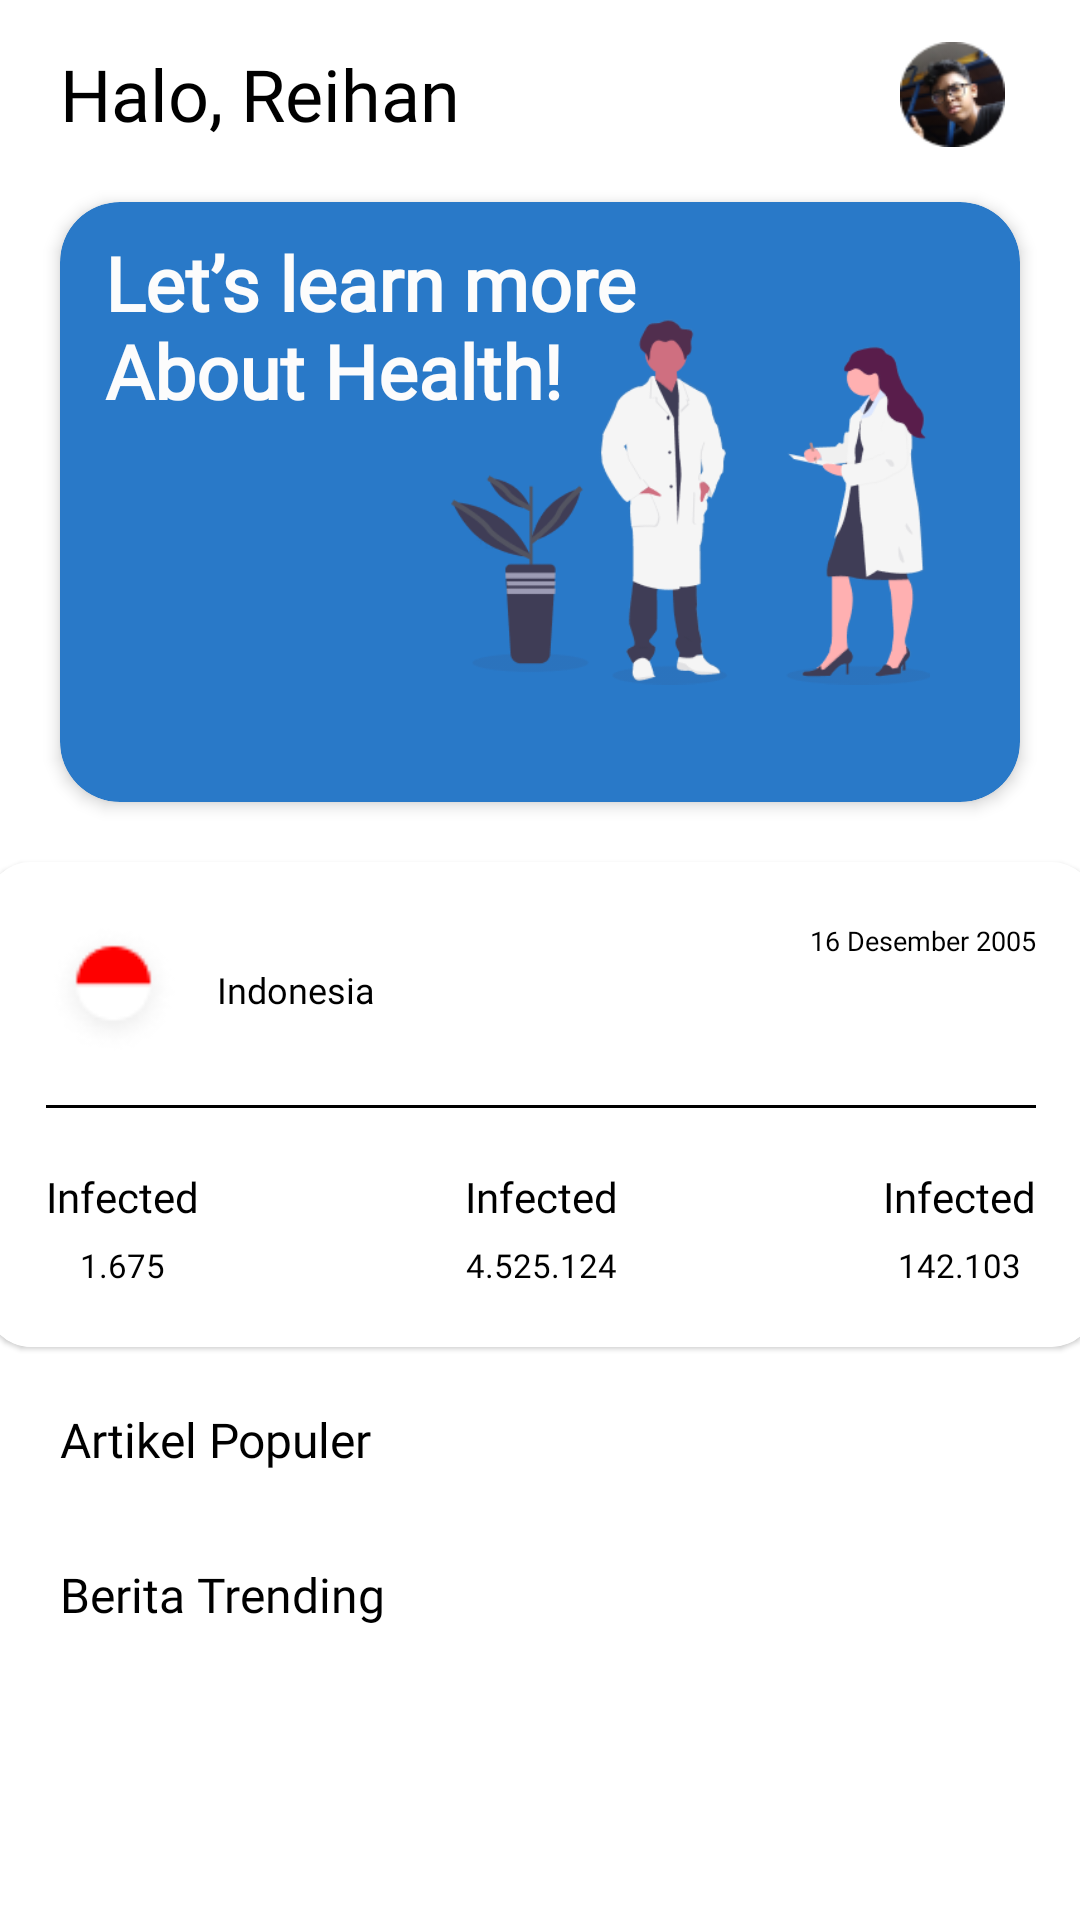

Named icons in this screenshot (1080 x 1920) and their centers, [x,y]:
photoprofile: [952,94]
